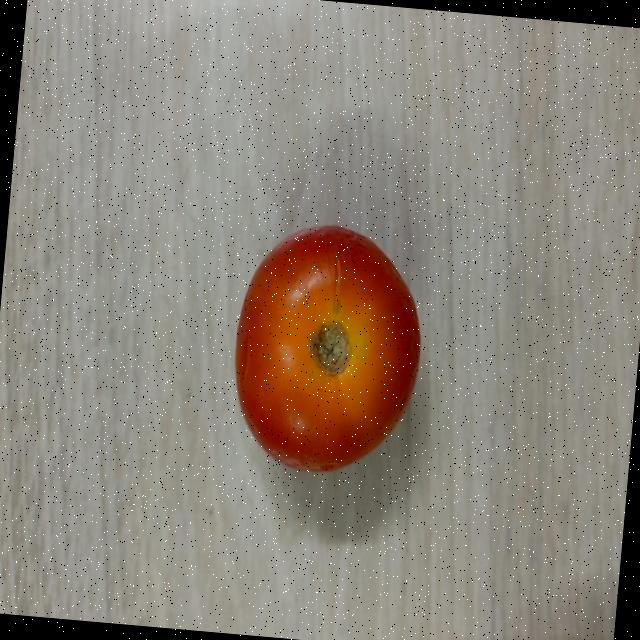Tomato: (218, 211, 438, 488)
